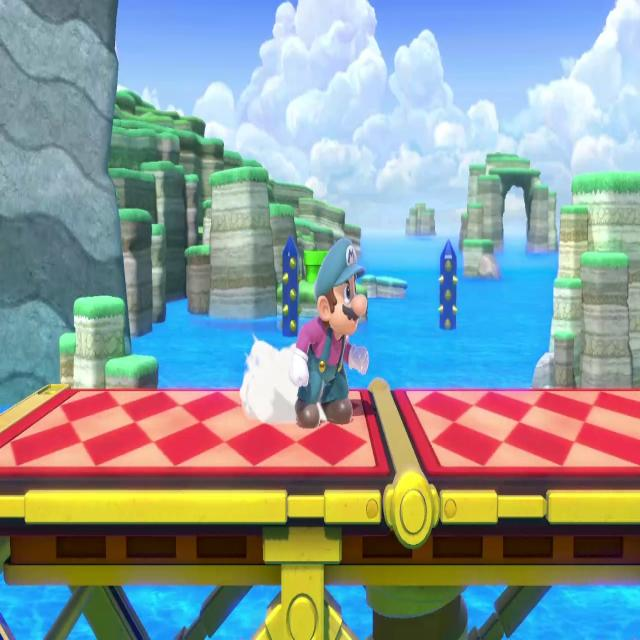Mario-jump: (284, 232, 372, 436)
